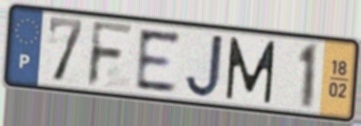1: (296, 39, 324, 114)
7: (47, 14, 86, 86)
E: (134, 27, 182, 94)
F: (84, 18, 136, 90)
J: (182, 31, 226, 100)
M: (224, 34, 278, 106)
